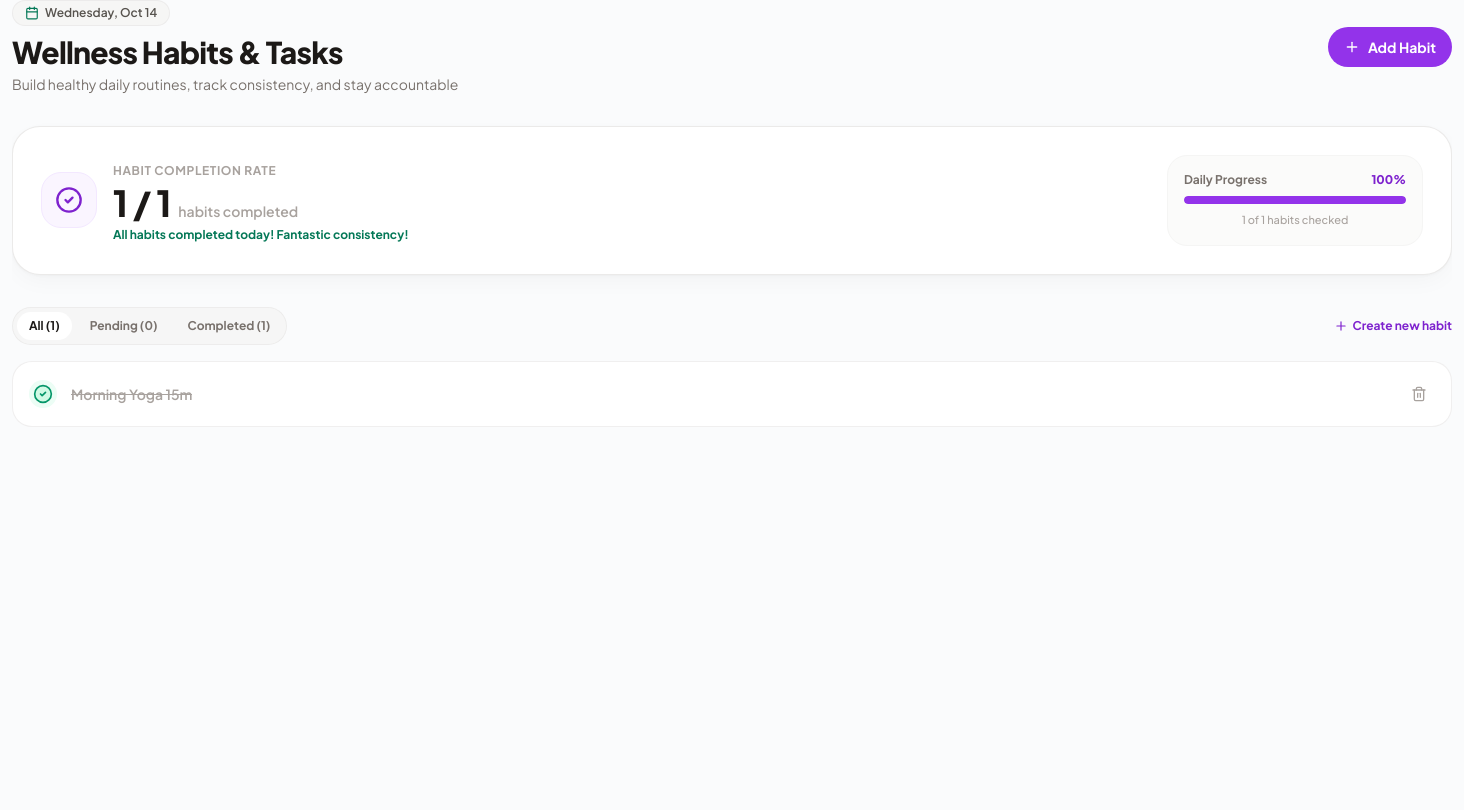
it: Task Completion and Status Filtering › TodoTracker Component › shows useful empty state when no tasks match a filter
// Switch to Pending (0)
Click the button "Pending (0)" at coordinates (124, 326), box [78,312,170,340]
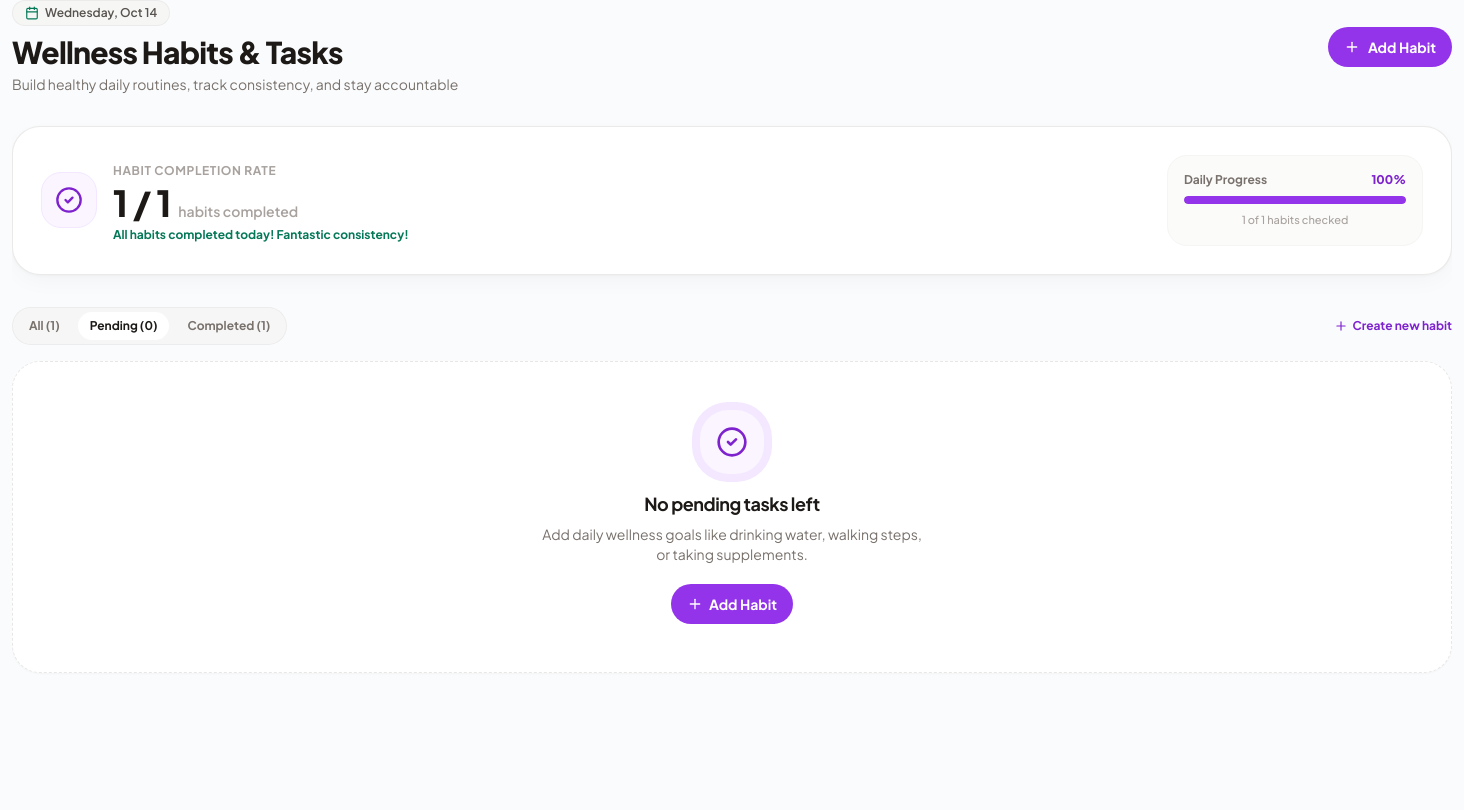
Now the heading "No pending tasks left" is shown, box [644,490,820,518]
